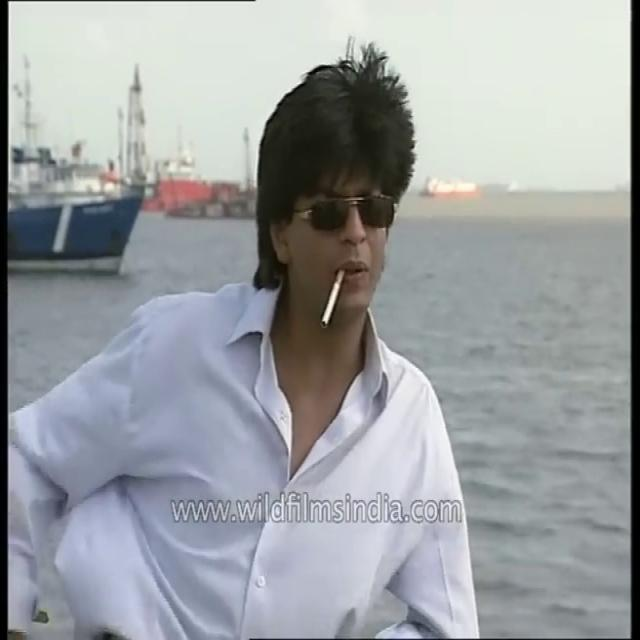Smooking: (310, 259, 360, 340)
